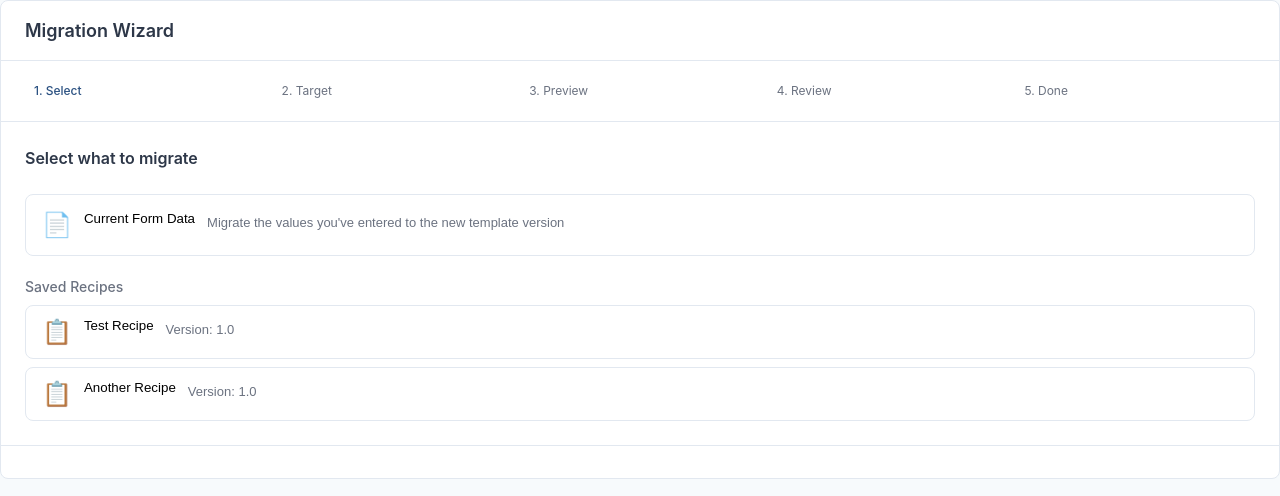
it: MigrationWizard › Step 1: Artifact Selection › should navigate to target selection when form data is clicked
What coordinates should you click on to do the following:
click the text "Current Form Data"
I would click on:
 (139, 218)
Its box is [84,211,195,226].
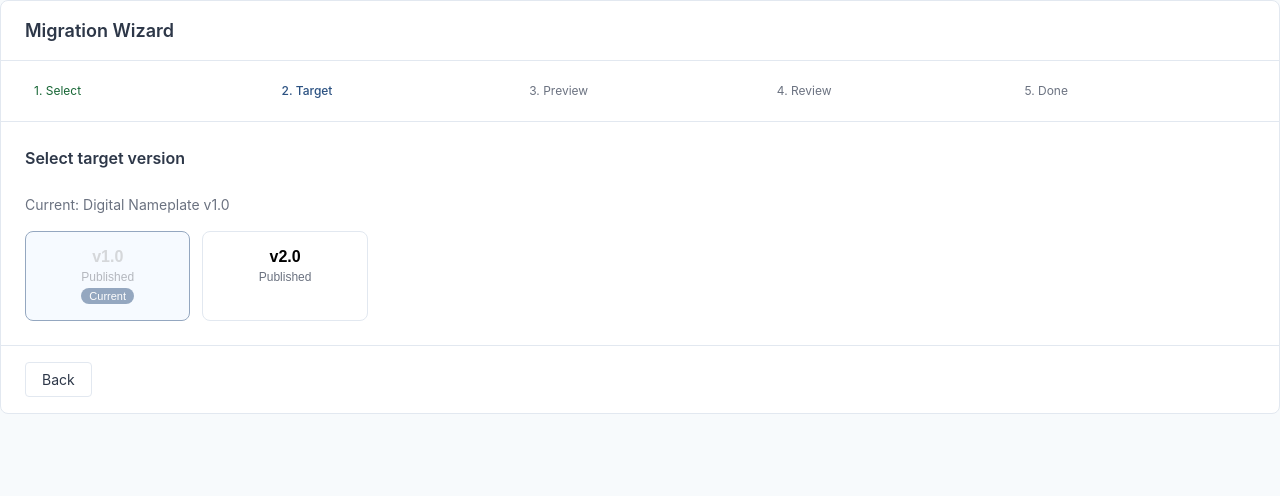
Now the heading "Select target version" is shown, box [25,148,185,168]
